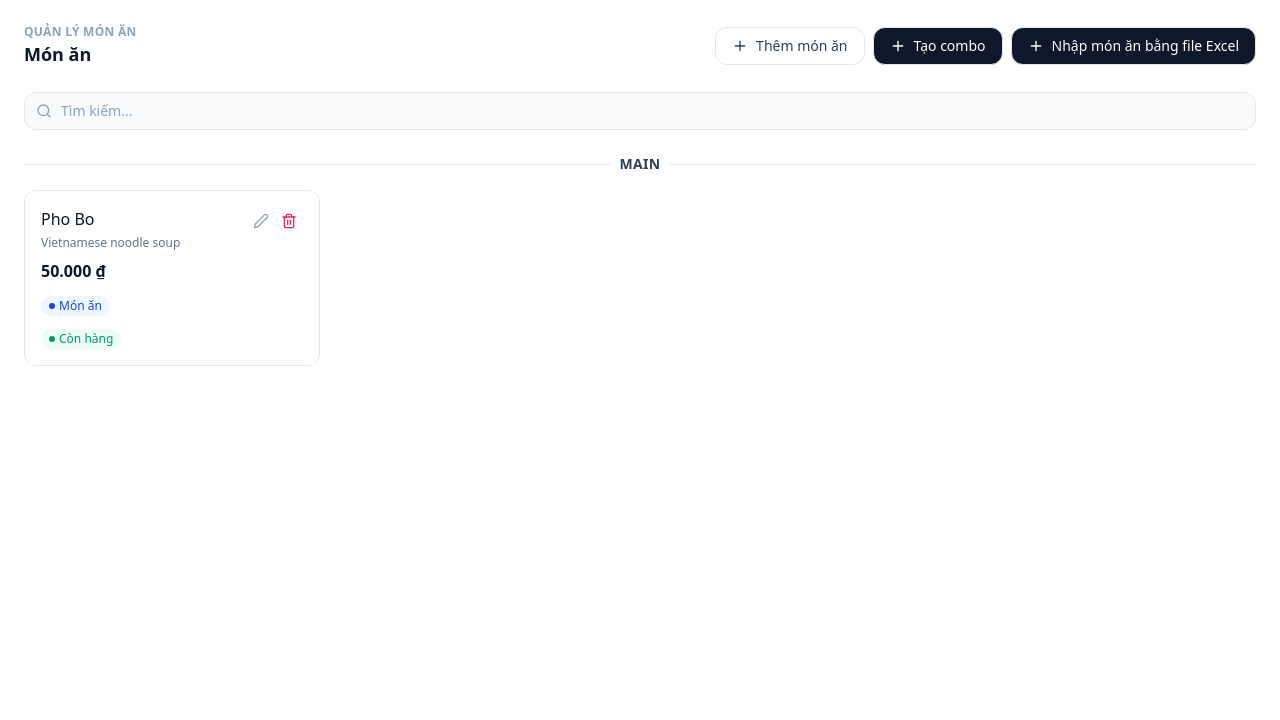
Test: Integration: Tenant Dish Flow › updates an existing dish from dish list
Expected: the heading "Pho Bo" is shown, [41, 208, 94, 230]
Click the button titled "Chỉnh sửa món ăn". click: (261,221)
box: [247, 207, 275, 235]
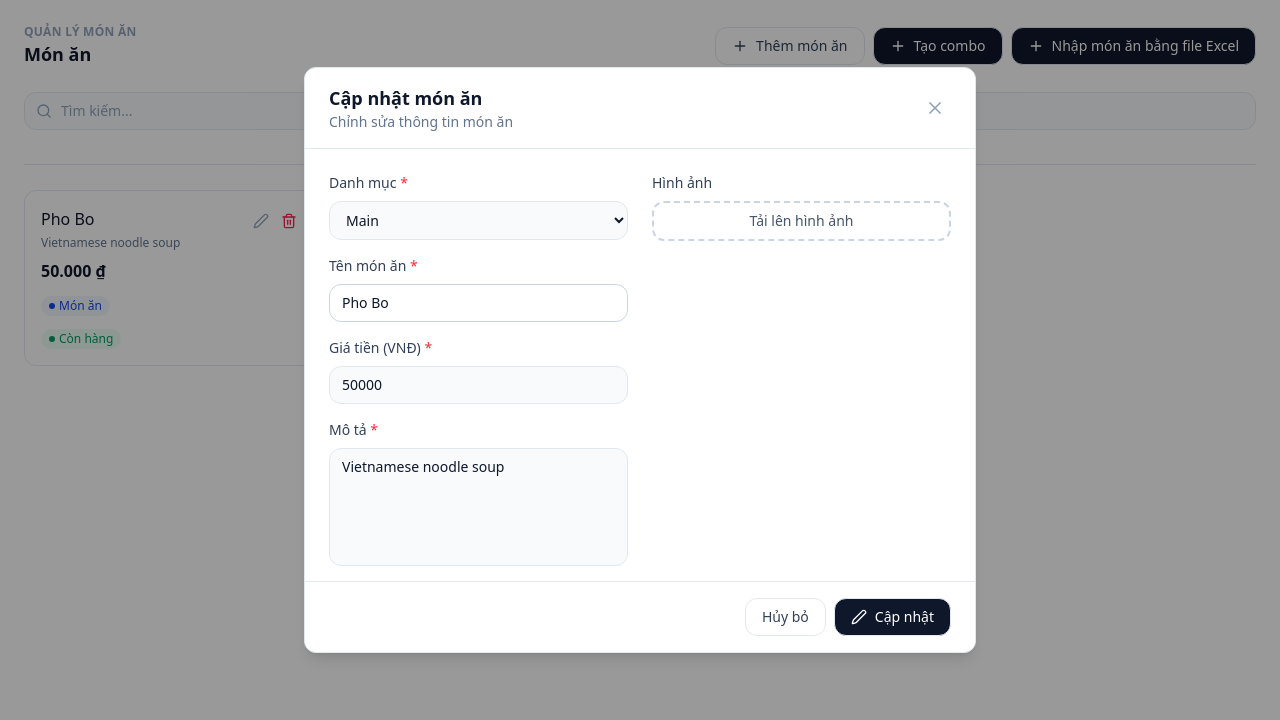
Result: the heading "Cập nhật món ăn" is shown at [329, 86, 482, 110]
Replace the text in the field with placeholder "Nhập tên món ăn..." with "Pho Bo Special". click: (478,303)
box: [329, 284, 628, 322]
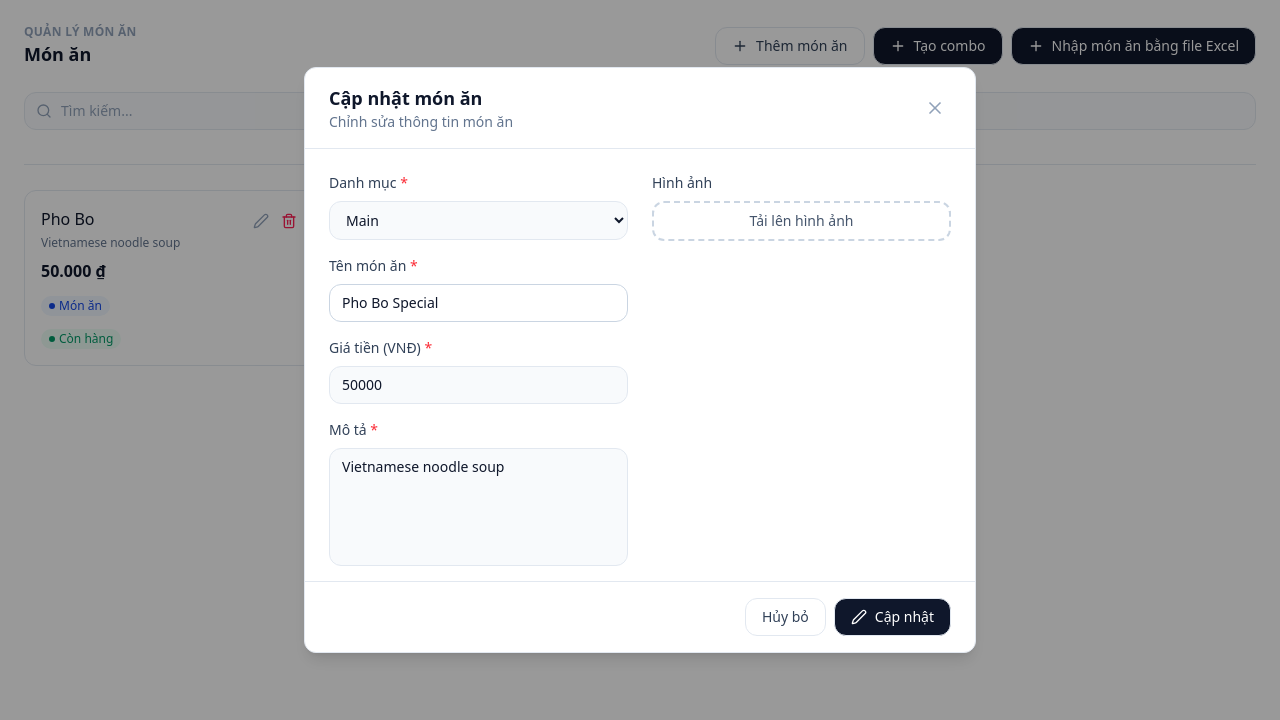
Replace the text in the number field with placeholder "Nhập giá tiền..." with "70000". click: (478,385)
box: [329, 366, 628, 404]
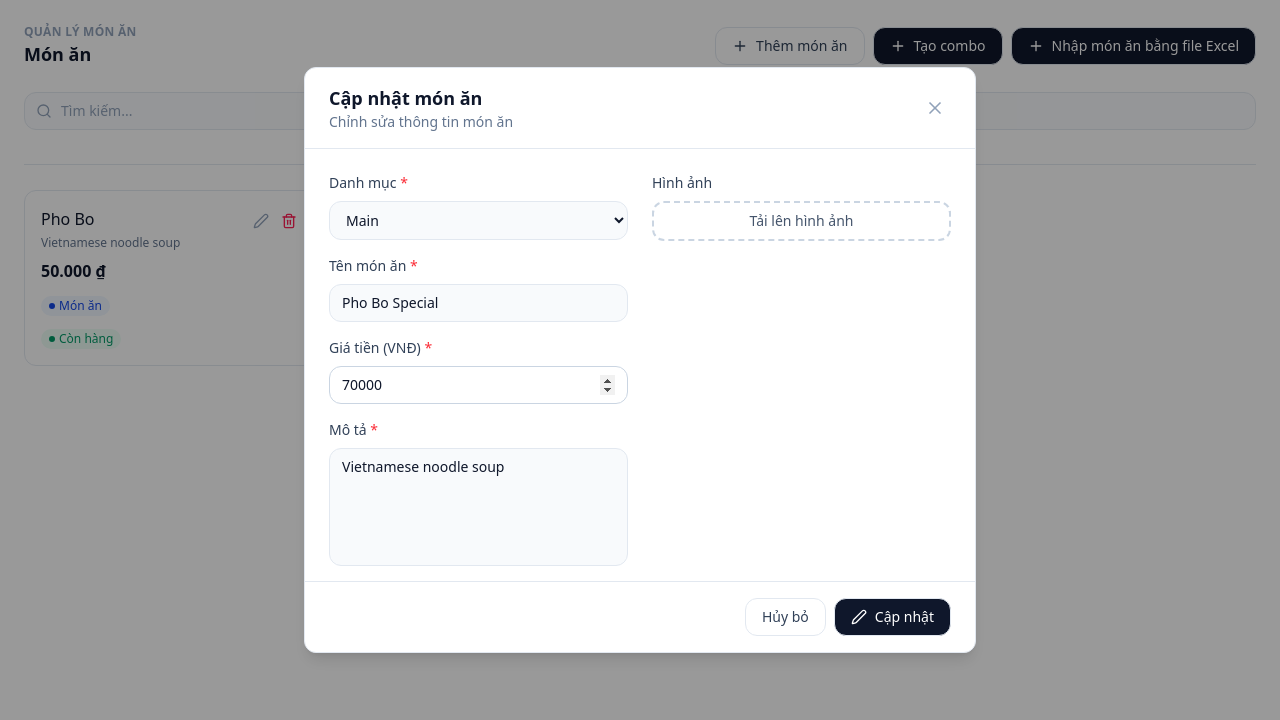
Replace the text in the text box with placeholder "Nhập mô tả món ăn..." with "Updated noodle soup". click: (478,507)
box: [329, 448, 628, 566]
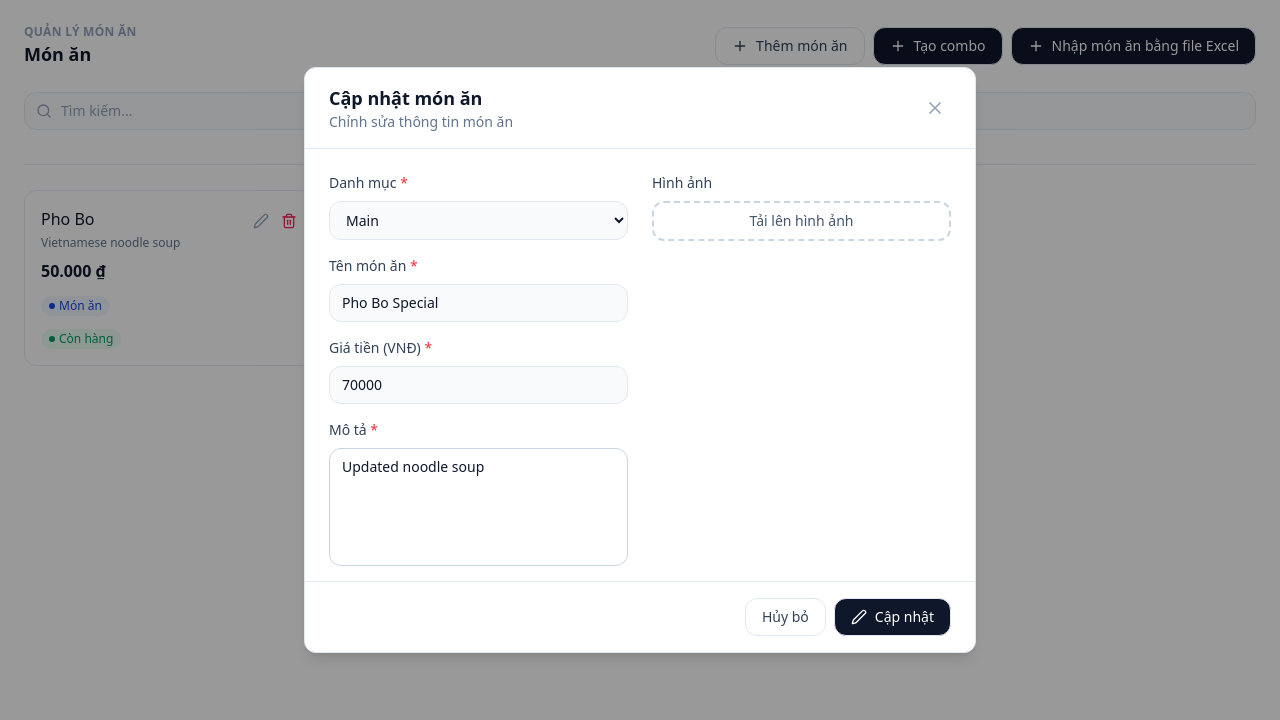
Click the button "Cập nhật". click: (892,617)
box: [834, 598, 951, 636]
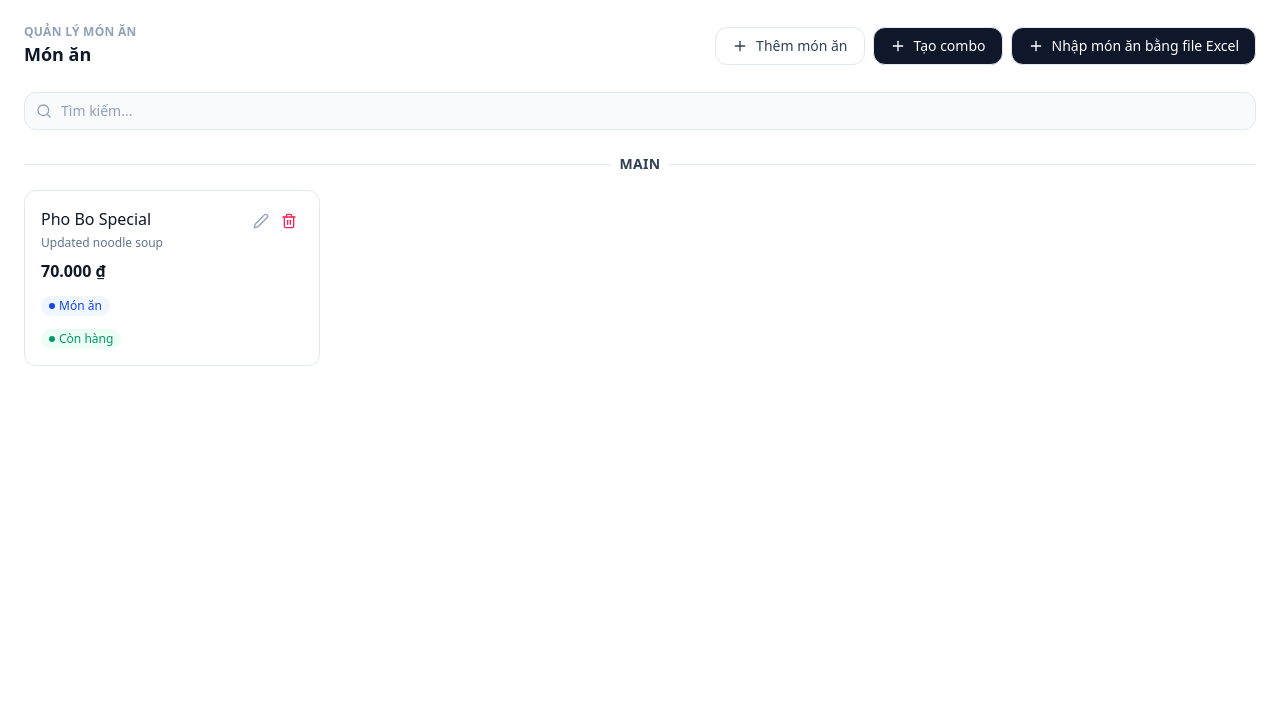
Result: the heading "Pho Bo Special" is shown at [41, 208, 151, 230]
Result: the text "Updated noodle soup" is shown at [41, 234, 163, 251]
